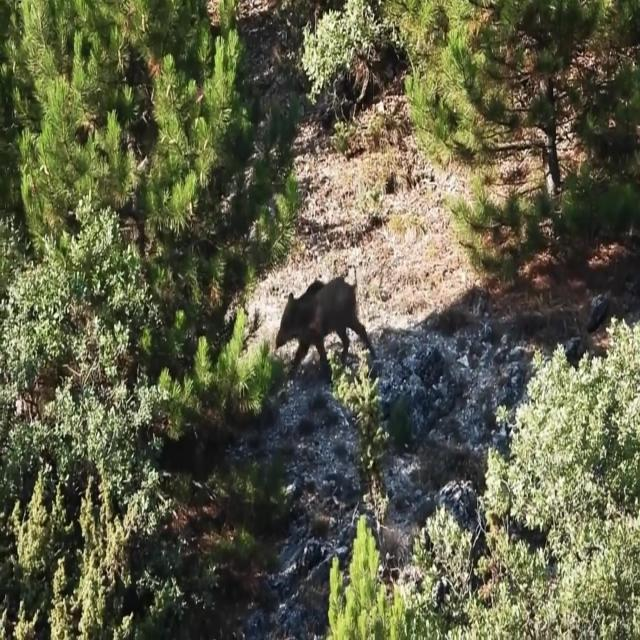pig: (271, 266, 392, 404)
